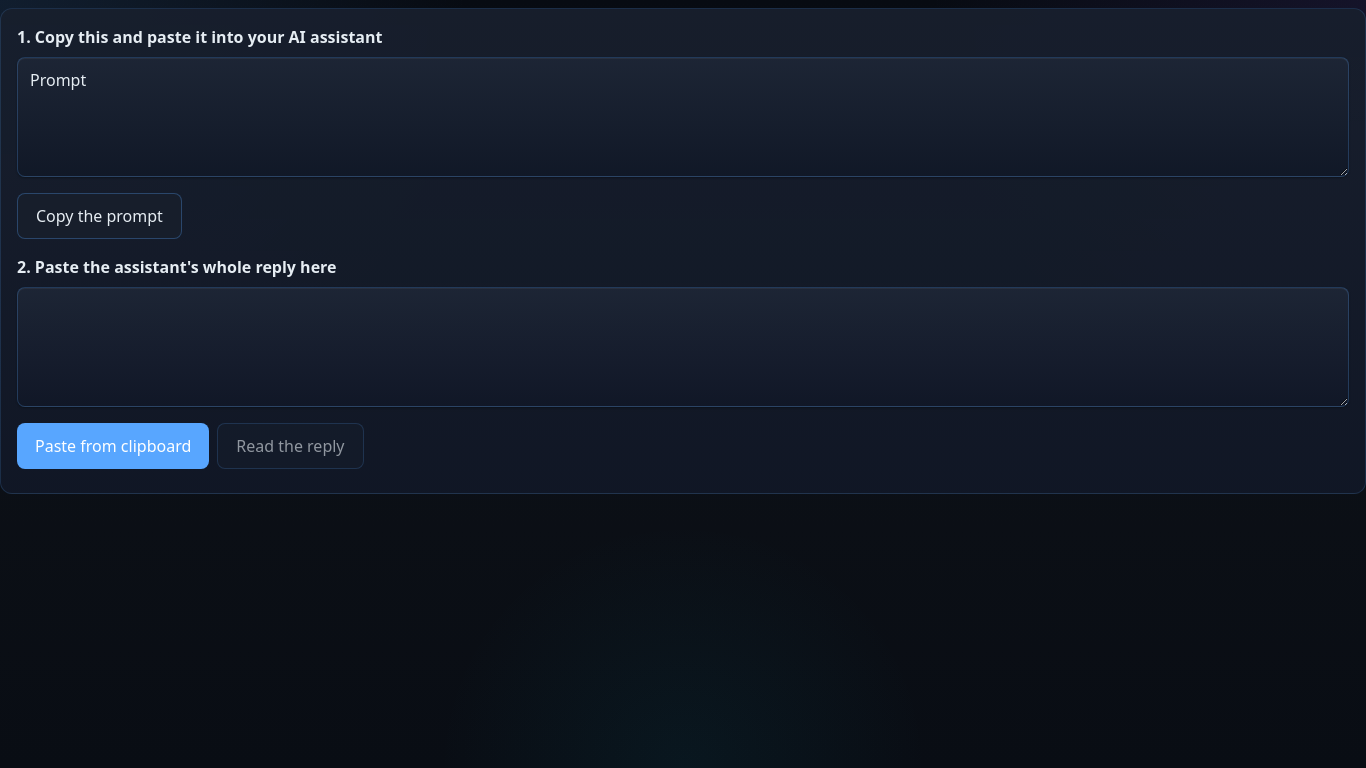
Test: PromptRound › stops waiting for a clipboard the browser never answers, and puts the cursor in the reply box
This screenshot has width=1366, height=768.
Click the button "Paste from clipboard" at point(113, 446), box [17, 423, 209, 469]
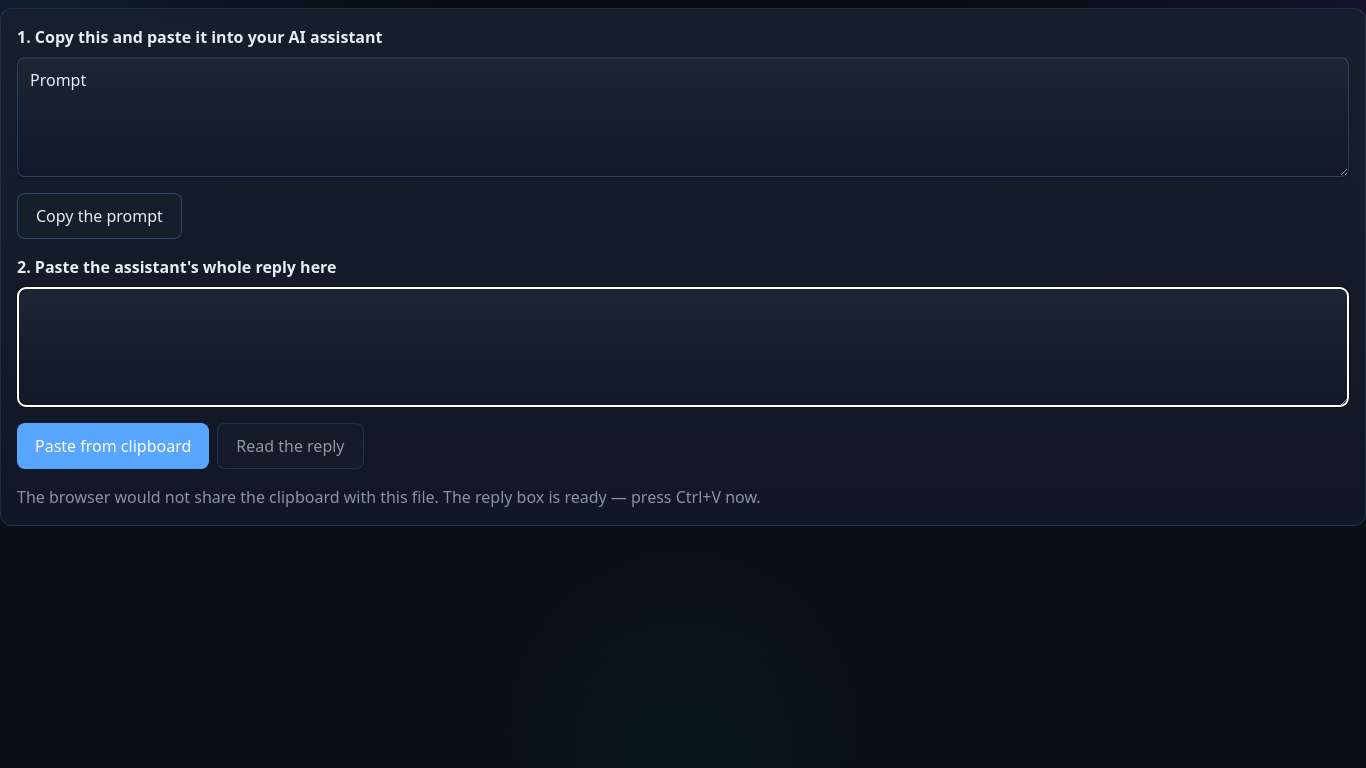
Now the text "press Ctrl+V now" is shown, box [17, 486, 761, 508]
